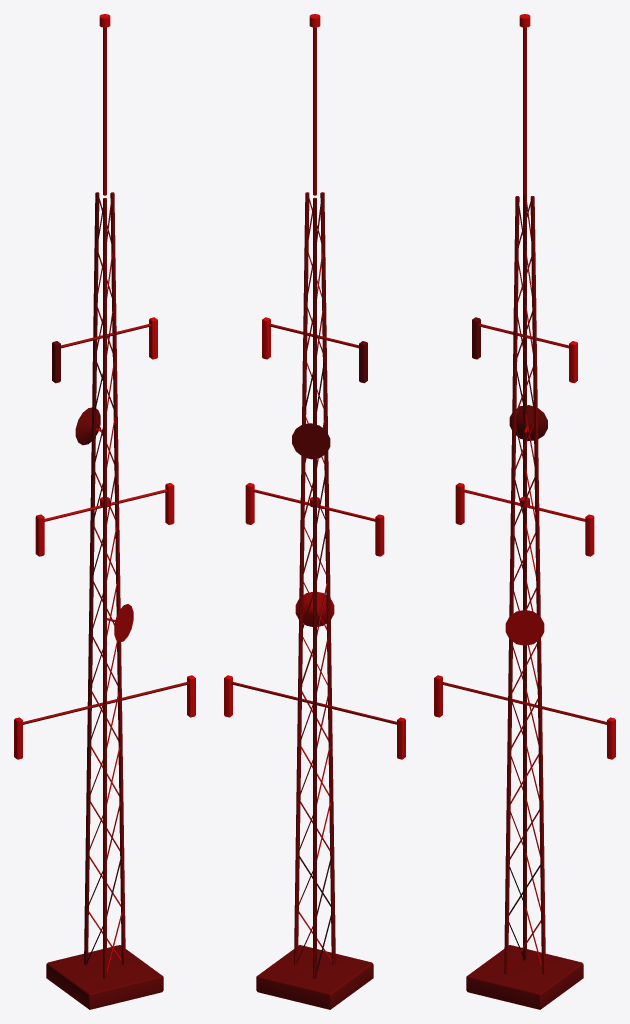
Rendered from antenna_mast.glb.
3 views of the same model, side by side, from view 1: azimuth 30°, elevation 25°; view 2: azimuth 150°, elevation 25°; view 3: azimuth 330°, elevation 25° (orthographic).
Parts seen in each view (by area): view 1: antenna_mast; view 2: antenna_mast; view 3: antenna_mast.
Part boxes in pixels (x1=…): antenna_mast: x1=14, y1=14, x2=195, y2=1009; antenna_mast: x1=224, y1=14, x2=405, y2=1009; antenna_mast: x1=434, y1=14, x2=615, y2=1009.
Size of the model in its own units: 3.32 by 17.16 by 1.4.
